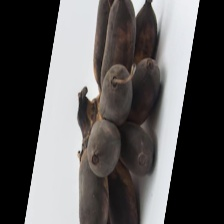banana: (0, 16, 193, 197)
